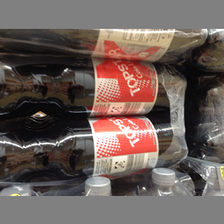soda: (3, 116, 185, 183), (1, 53, 186, 114), (1, 30, 208, 52)
